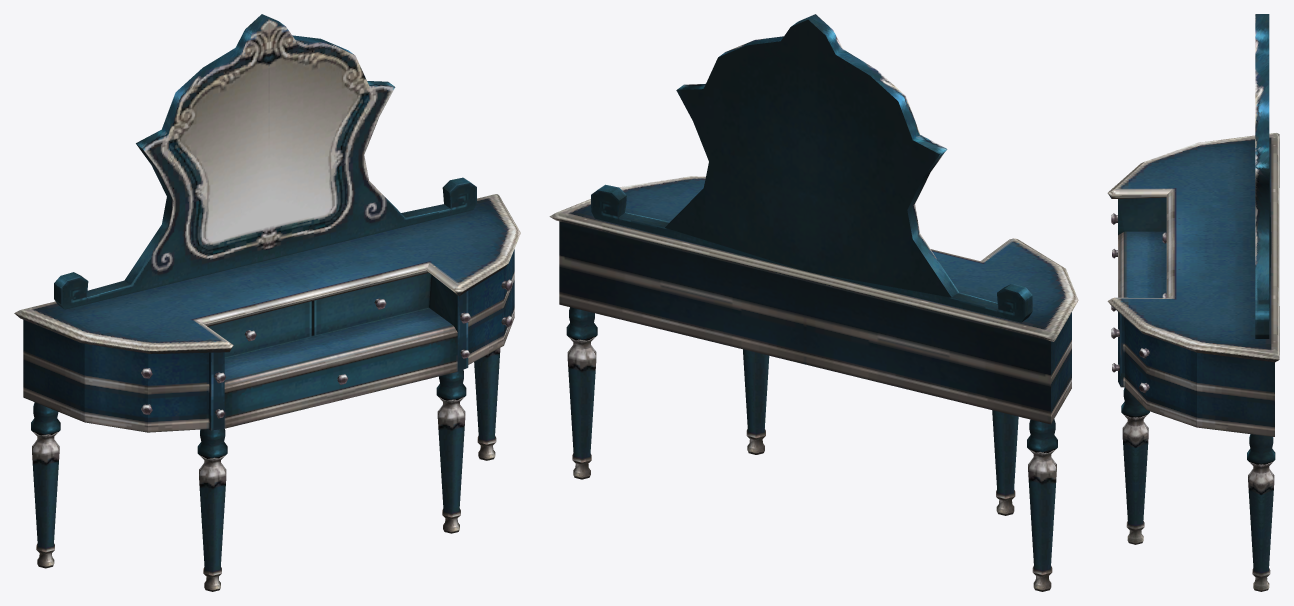
Rendered from furni_0201117_03.FBX.
3 renders of one model, left to right at view 1: azimuth 30°, elevation 25°; view 2: azimuth 150°, elevation 25°; view 3: azimuth 270°, elevation 25°, orthographic. The views are drawn at different scales.
Parts seen in each view (by area): view 1: furni_0201117_03; view 2: furni_0201117_03; view 3: furni_0201117_03.
Boxes of the visible parts, x1=… form: furni_0201117_03: x1=14, y1=14, x2=520, y2=591; furni_0201117_03: x1=549, y1=14, x2=1078, y2=591; furni_0201117_03: x1=1107, y1=14, x2=1279, y2=591.
Bounding box in the file's own units: 158 × 154 × 50.83.
1 material, 1 textured.
